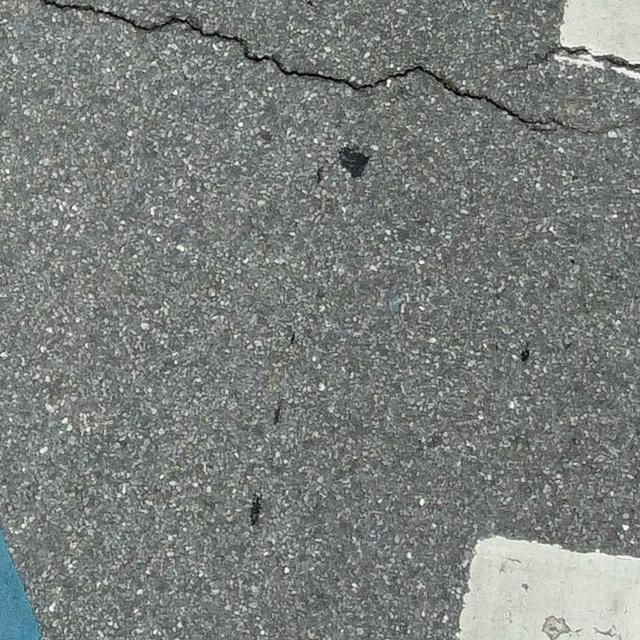TransverseCrack: (38, 1, 626, 137), (509, 41, 640, 80)
